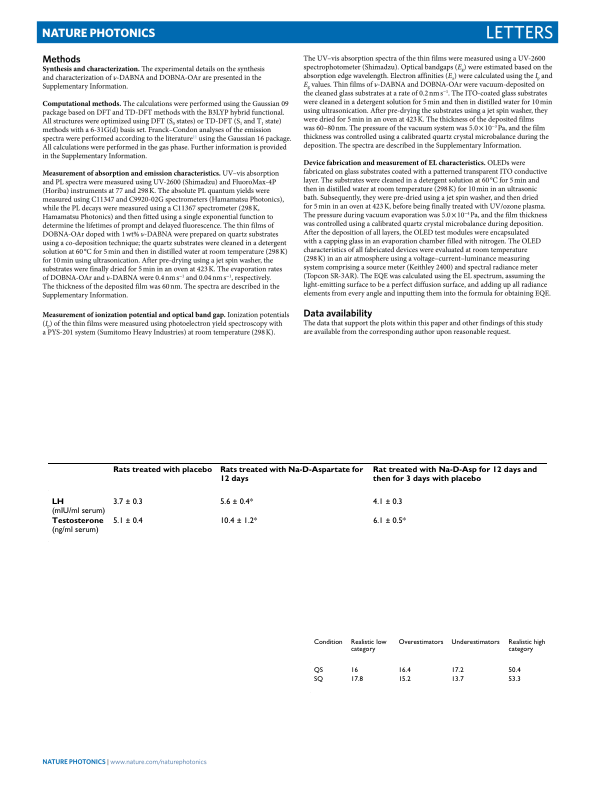borderless: (46, 461, 548, 543), (308, 636, 548, 694)
cell: (372, 466, 537, 484), (219, 466, 364, 484), (50, 497, 106, 516), (50, 517, 104, 535), (112, 466, 213, 475), (507, 638, 546, 654), (349, 638, 387, 654), (450, 638, 500, 647), (397, 638, 444, 647), (219, 516, 258, 526), (219, 497, 254, 507), (372, 516, 406, 526), (112, 497, 143, 507), (372, 497, 403, 507), (112, 516, 143, 526), (313, 638, 343, 647), (397, 666, 411, 675), (450, 666, 464, 675), (507, 666, 521, 675), (349, 675, 363, 684), (397, 675, 411, 684), (450, 675, 464, 684), (507, 675, 521, 684), (313, 666, 323, 675), (313, 675, 323, 684), (349, 666, 358, 675)
